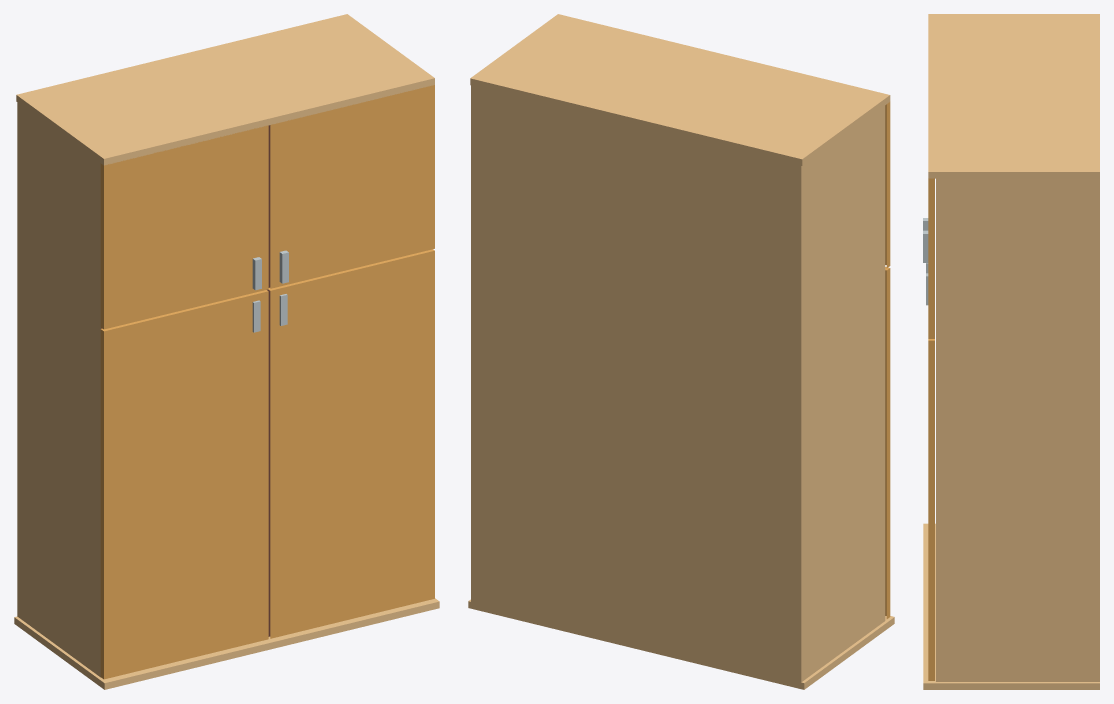
File: closet_024.glb
The picture shows the model from 3 angles, left to right: view 1: azimuth 30°, elevation 25°; view 2: azimuth 150°, elevation 25°; view 3: azimuth 270°, elevation 25°; orthographic projection. The views are drawn at different scales.
Parts seen in each view (by area): view 1: closet_024; view 2: closet_024; view 3: closet_024.
Part boxes in pixels (left/top/right/bottom): closet_024: left=14, top=14, right=439, bottom=689; closet_024: left=468, top=14, right=894, bottom=689; closet_024: left=923, top=14, right=1099, bottom=689.
Bounding box in the file's own units: 1.35 × 2.03 × 0.6291.
1 material, 1 textured.
